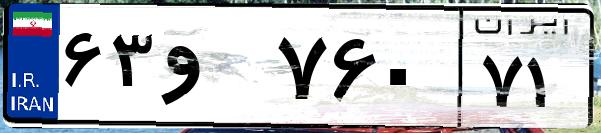0: (385, 28, 445, 110)
1: (525, 38, 570, 115)
3: (110, 28, 158, 98)
6: (330, 28, 385, 110), (57, 26, 110, 100)
7: (270, 28, 330, 110), (475, 38, 525, 113)
و: (158, 20, 270, 120)
